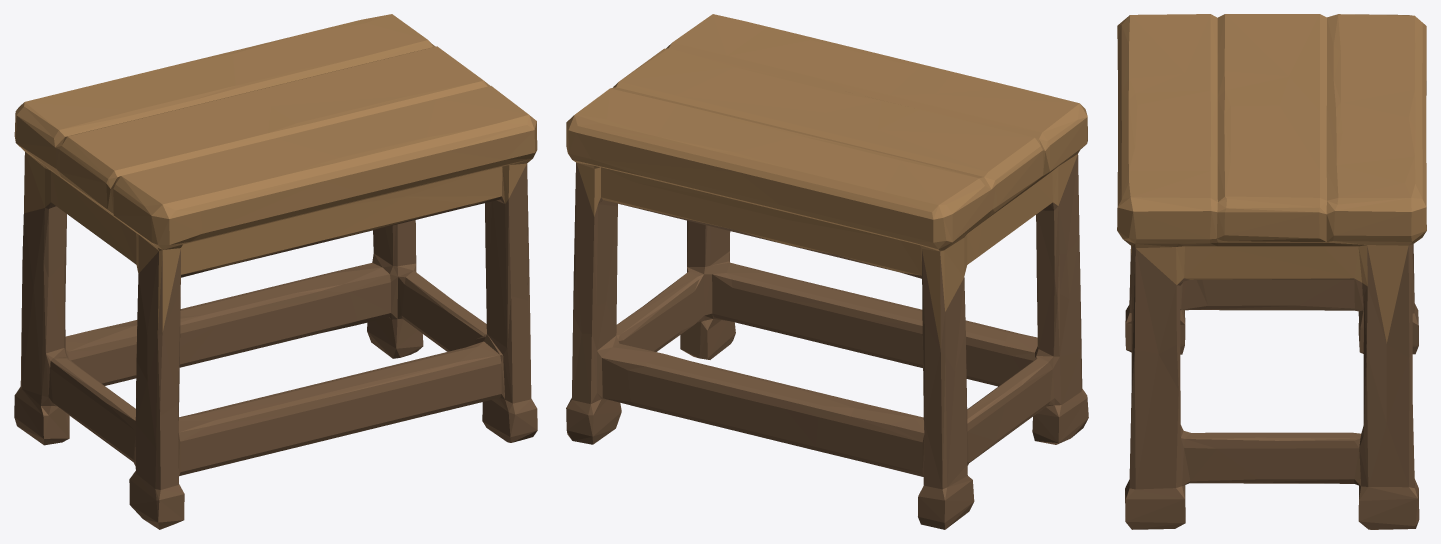
Rendered from plate_bench.glb.
3 renders of one model, left to right at view 1: azimuth 30°, elevation 25°; view 2: azimuth 150°, elevation 25°; view 3: azimuth 270°, elevation 25°, orthographic.
Parts seen in each view (by area): view 1: plate_bench; view 2: plate_bench; view 3: plate_bench.
Part boxes in pixels (x1=…): plate_bench: x1=14, y1=14, x2=537, y2=529; plate_bench: x1=566, y1=14, x2=1088, y2=529; plate_bench: x1=1117, y1=14, x2=1426, y2=529.
Size of the model in its own units: 1.1 by 0.89 by 0.75.
